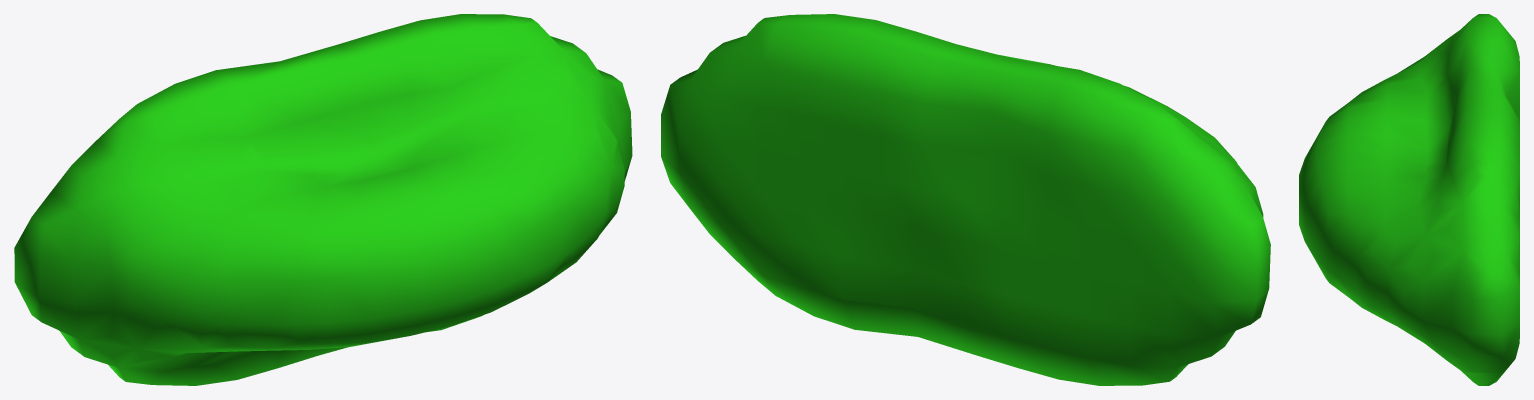
The model's file is jug1_center.obj.
The picture shows the model from 3 angles, left to right: view 1: azimuth 30°, elevation 25°; view 2: azimuth 150°, elevation 25°; view 3: azimuth 270°, elevation 25°; orthographic projection. The views are drawn at different scales.
Parts seen in each view (by area): view 1: Jug1Center; view 2: Jug1Center; view 3: Jug1Center.
Boxes of the visible parts, <box> form: Jug1Center: <box>14,14,632,385</box>; Jug1Center: <box>661,14,1270,385</box>; Jug1Center: <box>1299,14,1519,385</box>.
Bounding box in the file's own units: 0.1292 × 0.0608 × 0.0511.
